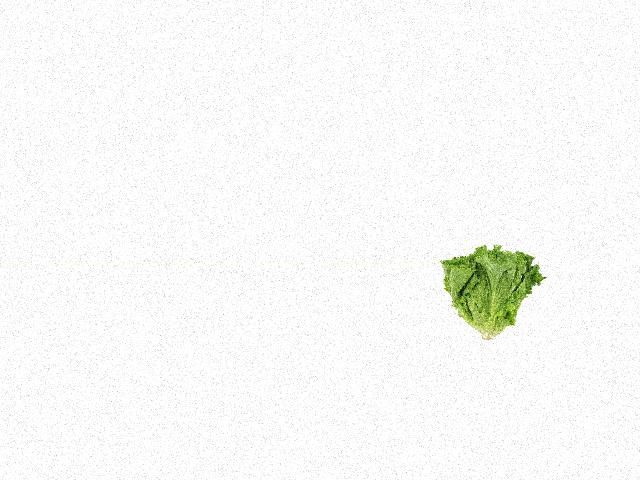lettuce: (439, 240, 541, 342)
